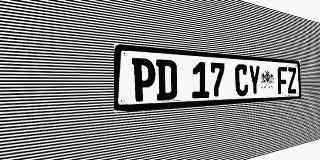1: (192, 61, 209, 99)
7: (209, 62, 225, 98)
C: (235, 64, 248, 96)
D: (156, 59, 177, 100)
F: (277, 66, 288, 94)
P: (132, 58, 156, 102)
Y: (248, 65, 261, 96)
Z: (287, 67, 297, 94)
